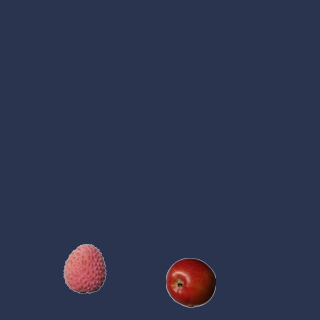Apple Braeburn: (165, 257, 215, 307)
Lychee: (59, 243, 109, 293)
